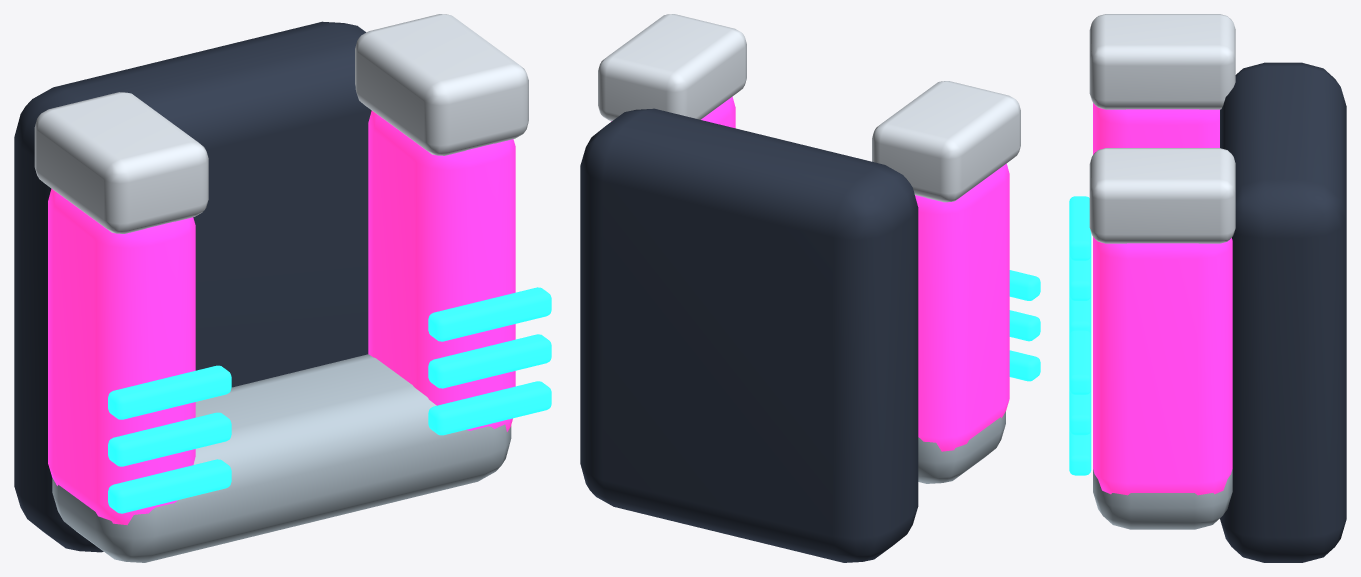
File: free-magnet-pack.glb
3 renders of one model, left to right at view 1: azimuth 30°, elevation 25°; view 2: azimuth 150°, elevation 25°; view 3: azimuth 270°, elevation 25°, orthographic. The views are drawn at different scales.
Visible parts, largest first — view 1: magnet-pack; view 2: magnet-pack; view 3: magnet-pack.
Boxes of the visible parts, x1,y1,x2,y2 form: magnet-pack: (14,14,551,562); magnet-pack: (580,14,1040,562); magnet-pack: (1069,14,1346,562).
Bounding box in the file's own units: 0.68 × 0.705 × 0.4375.
